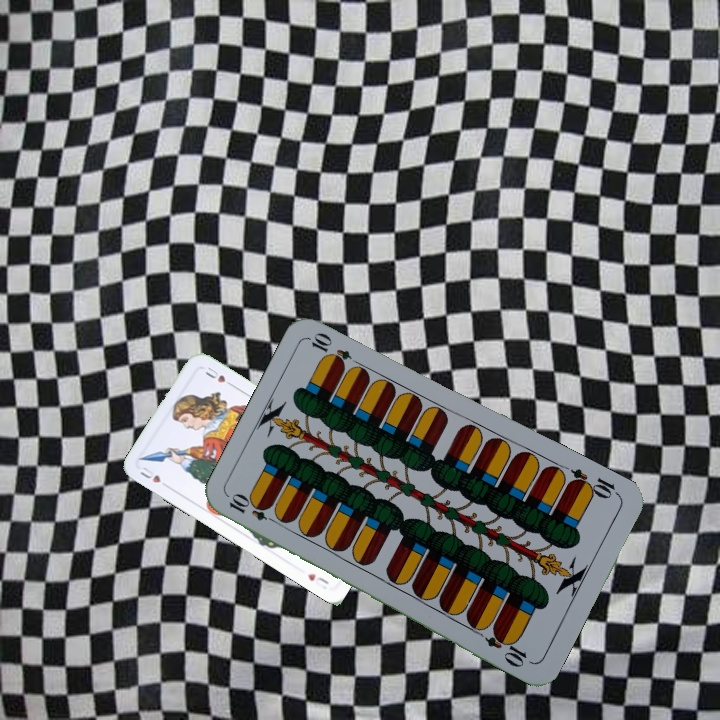E10: (564, 464, 622, 502), (225, 491, 282, 527)
HU: (136, 461, 172, 491)
